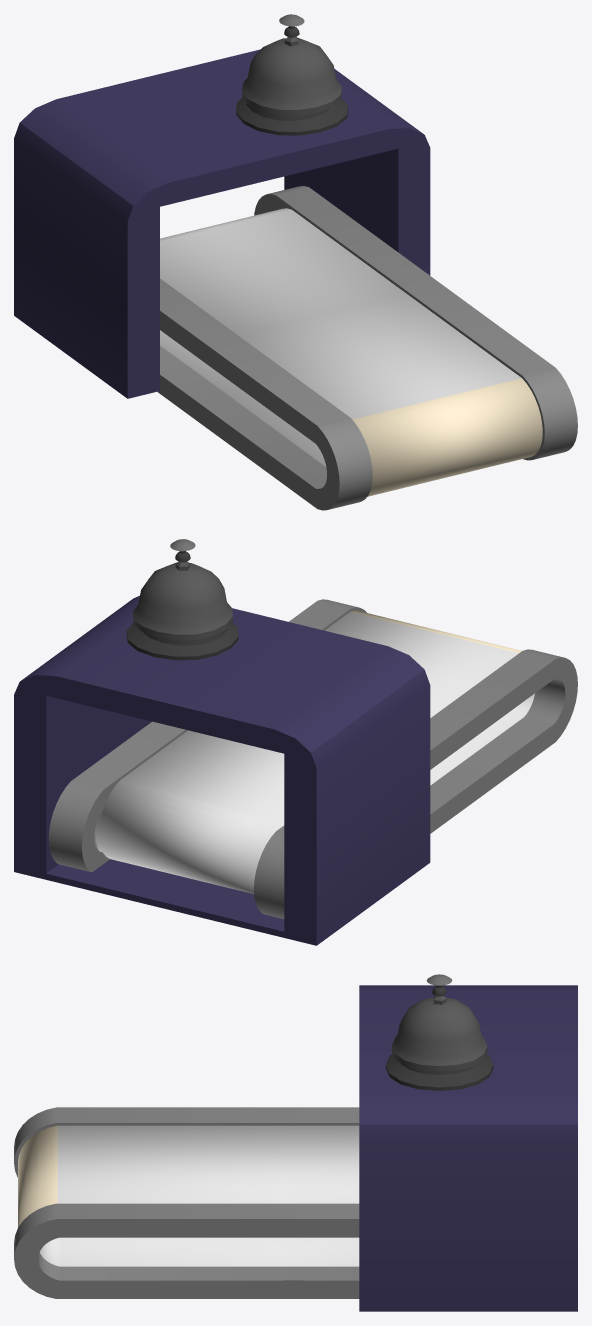
Rendered from OrderPlace.fbx.
3 views of the same model, one above another, from view 1: azimuth 30°, elevation 25°; view 2: azimuth 150°, elevation 25°; view 3: azimuth 270°, elevation 25° (orthographic). The views are drawn at different scales.
Visible parts, largest first — view 1: Cube, Cylinder.001, Cylinder.002, Cube.001; view 2: Cube, Cylinder.001, Cylinder.002, Cube.001; view 3: Cube, Cylinder.001, Cylinder.002, Cube.001.
Part boxes in pixels (x1,y1,x2,y2): Cube: (14,49,430,398); Cylinder.001: (160,208,542,496); Cylinder.002: (157,186,577,510); Cube.001: (236,14,347,135); Cube: (14,595,430,945); Cylinder.001: (95,610,534,893); Cylinder.002: (48,599,577,918); Cube.001: (126,539,238,660); Cube: (359,985,577,1311); Cylinder.001: (18,1125,359,1266); Cylinder.002: (14,1107,359,1298); Cube.001: (385,974,493,1090).
Size of the model in its own units: 98.85 by 94.93 by 166.
